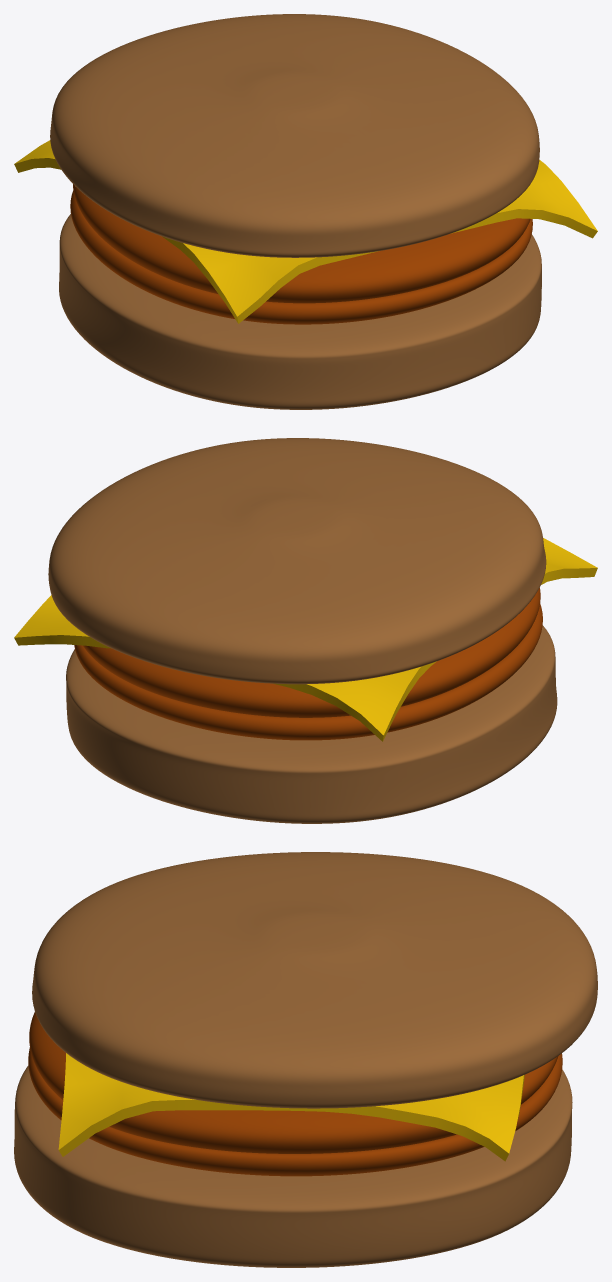
The model's file is hamburger.glb.
3 views of the same model, one above another, from view 1: azimuth 30°, elevation 25°; view 2: azimuth 150°, elevation 25°; view 3: azimuth 270°, elevation 25° (orthographic). The views are drawn at different scales.
Visible parts, largest first — view 1: Cube.002, Cube, Cube.001, Plane; view 2: Cube.002, Cube, Cube.001, Plane; view 3: Cube.002, Cube, Cube.001, Plane.
Boxes of the visible parts, bbox=[...] form: Cube.002: bbox=[50, 14, 539, 257]; Cube: bbox=[59, 214, 541, 409]; Cube.001: bbox=[70, 184, 532, 324]; Plane: bbox=[14, 140, 597, 323]; Cube.002: bbox=[48, 438, 546, 684]; Cube: bbox=[66, 625, 557, 823]; Cube.001: bbox=[74, 588, 542, 740]; Plane: bbox=[14, 538, 597, 741]; Cube.002: bbox=[32, 852, 597, 1108]; Cube: bbox=[14, 1065, 572, 1267]; Cube.001: bbox=[28, 1012, 562, 1176]; Plane: bbox=[58, 1053, 524, 1161].
Bounding box in the file's own units: 3.77 × 1.93 × 4.13.
